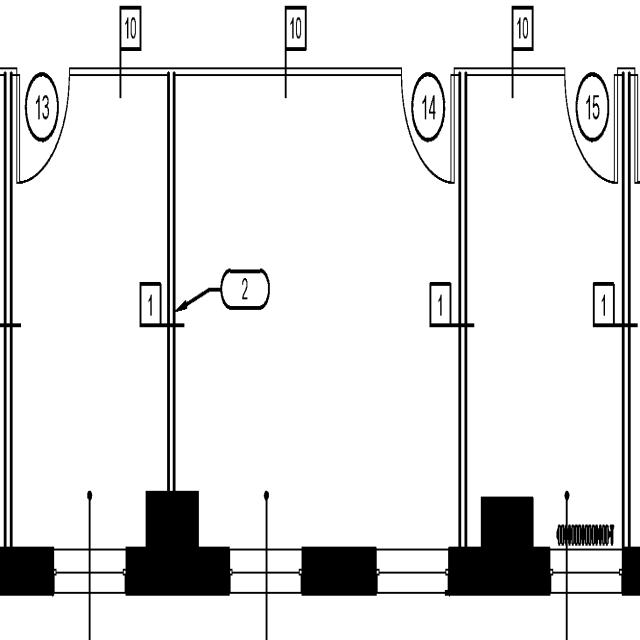Doors: (396, 62, 457, 191), (562, 61, 621, 190), (12, 67, 73, 188)
